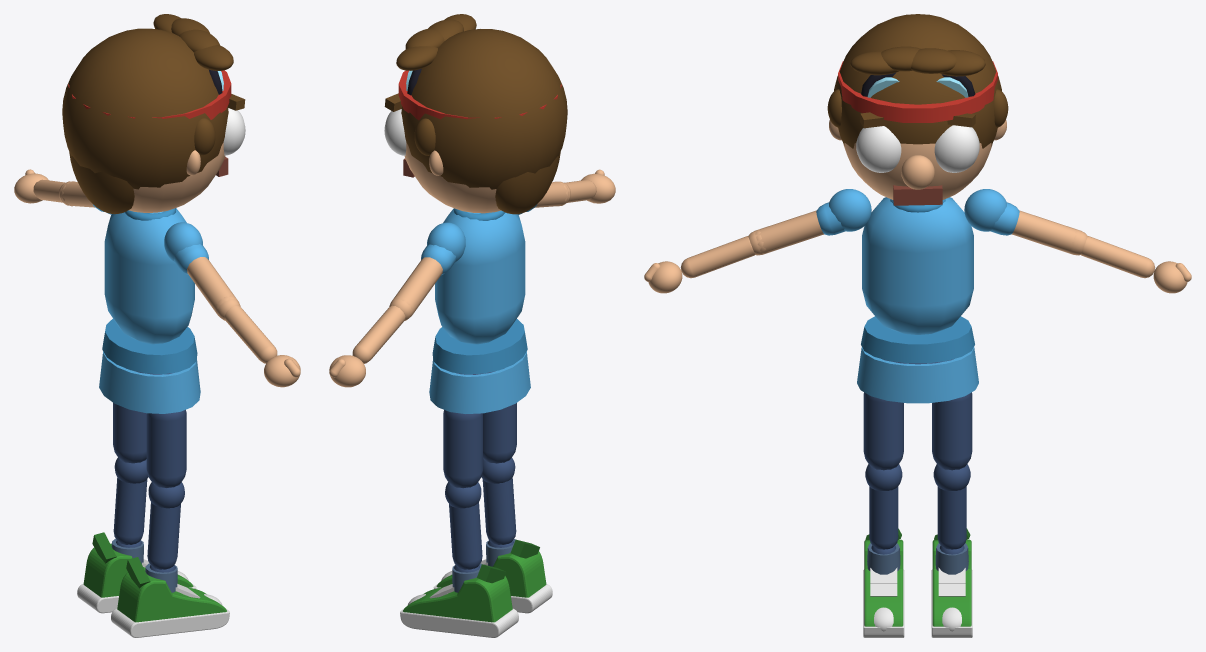
Rendered from jmp2.glb.
The picture shows the model from 3 angles, left to right: view 1: azimuth 30°, elevation 25°; view 2: azimuth 150°, elevation 25°; view 3: azimuth 270°, elevation 25°; orthographic projection.
Size of the model in its own units: 0.431 by 1.49 by 1.25.
